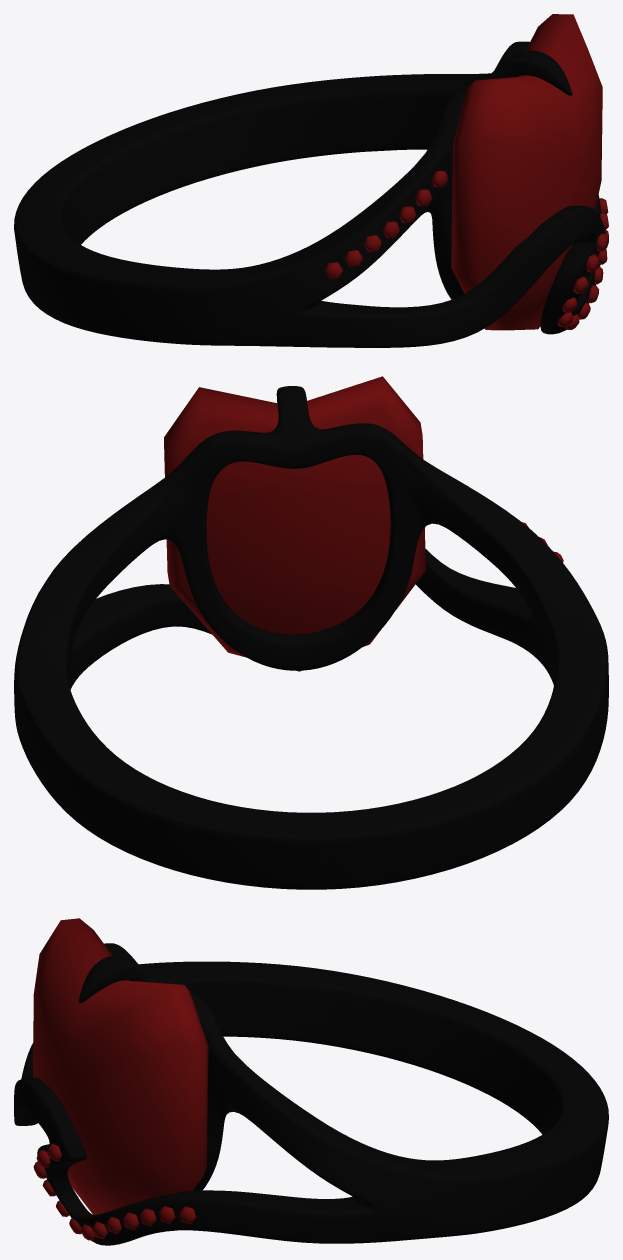
The model's file is gold_ring_for_female.glb.
3 views of the same model, one above another, from view 1: azimuth 30°, elevation 25°; view 2: azimuth 150°, elevation 25°; view 3: azimuth 270°, elevation 25° (orthographic).
Visible parts, largest first — view 1: Object01_0, Object01_1; view 2: Object01_0, Object01_1; view 3: Object01_0, Object01_1.
Part boxes in pixels (bbox=[...]): Object01_0: bbox=[14, 41, 605, 347]; Object01_1: bbox=[325, 14, 608, 330]; Object01_0: bbox=[14, 386, 608, 889]; Object01_1: bbox=[164, 376, 563, 671]; Object01_0: bbox=[14, 943, 608, 1245]; Object01_1: bbox=[33, 918, 208, 1240].
Bounding box in the file's own units: 1.25 × 0.6557 × 1.26.
